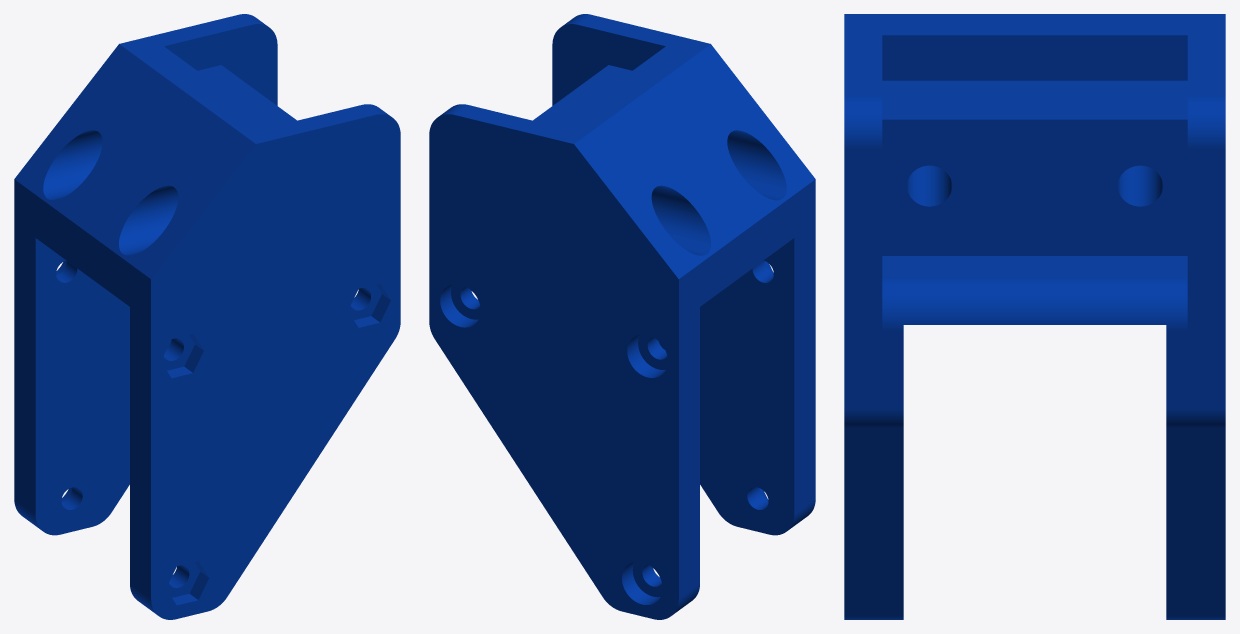
File: wsg50_mount-finger_holder_left.obj
The picture shows the model from 3 angles, left to right: view 1: azimuth 30°, elevation 25°; view 2: azimuth 150°, elevation 25°; view 3: azimuth 270°, elevation 25°; orthographic projection. The views are drawn at different scales.
Parts seen in each view (by area): view 1: wsg50_mount_-_finger_holder_left; view 2: wsg50_mount_-_finger_holder_left; view 3: wsg50_mount_-_finger_holder_left.
Part boxes in pixels (x1=…): wsg50_mount_-_finger_holder_left: x1=14, y1=14, x2=400, y2=619; wsg50_mount_-_finger_holder_left: x1=429, y1=14, x2=815, y2=619; wsg50_mount_-_finger_holder_left: x1=844, y1=14, x2=1225, y2=619.
Bounding box in the file's own units: 40 × 69.8 × 38.
